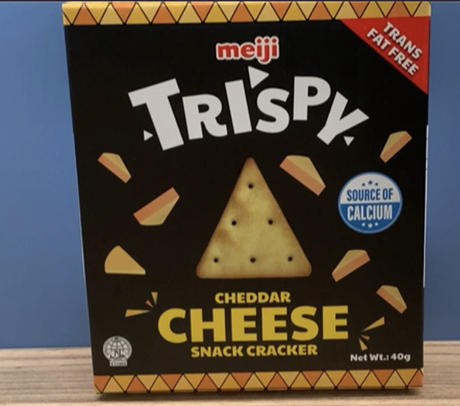crackers_1g-99g: (98, 22, 420, 370)
